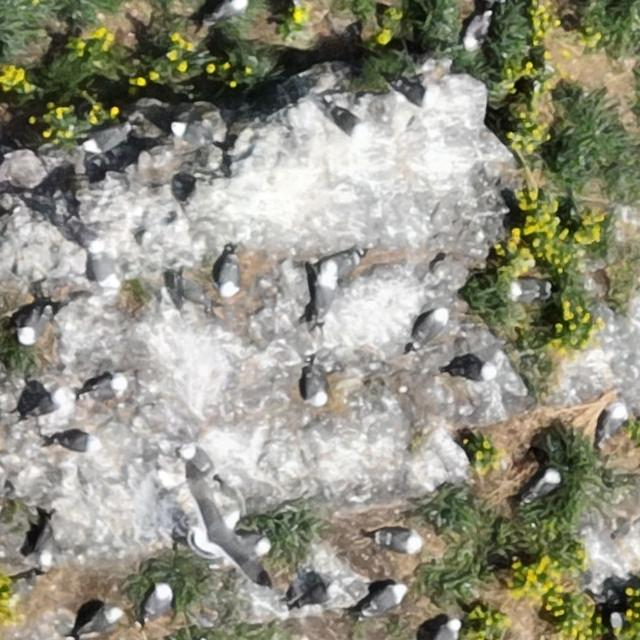F: (187, 480, 252, 579)
umineko: (408, 306, 451, 354), (326, 104, 366, 138), (289, 581, 337, 608), (323, 247, 368, 274), (463, 10, 492, 50), (32, 387, 68, 419), (34, 523, 58, 568), (70, 218, 100, 253), (82, 126, 127, 149), (366, 584, 404, 610), (316, 268, 332, 327), (231, 532, 270, 555), (380, 532, 422, 553), (529, 470, 560, 498), (83, 608, 119, 632), (18, 310, 44, 343), (146, 584, 172, 616), (186, 446, 214, 474), (603, 404, 626, 438), (220, 258, 240, 295), (96, 258, 118, 291), (305, 372, 326, 406), (396, 82, 428, 104), (454, 363, 492, 381), (511, 281, 544, 301), (211, 1, 245, 20), (56, 434, 93, 451), (89, 378, 121, 397), (434, 619, 459, 640), (175, 124, 204, 142)
